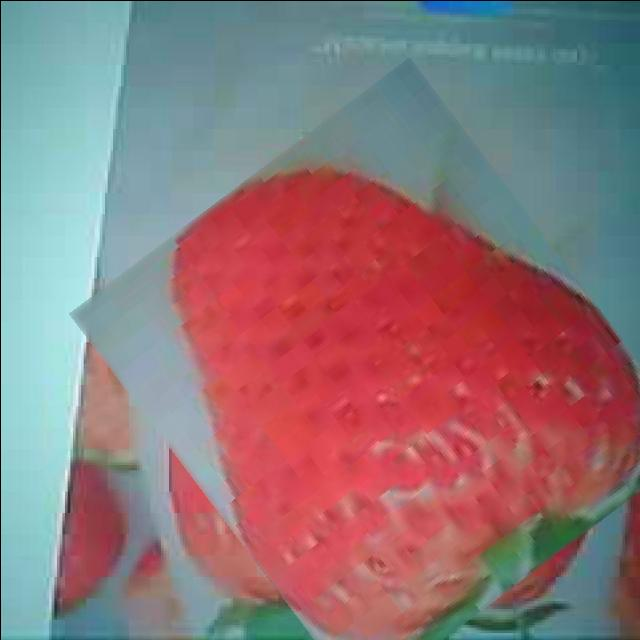strawberry: (118, 96, 640, 640)
